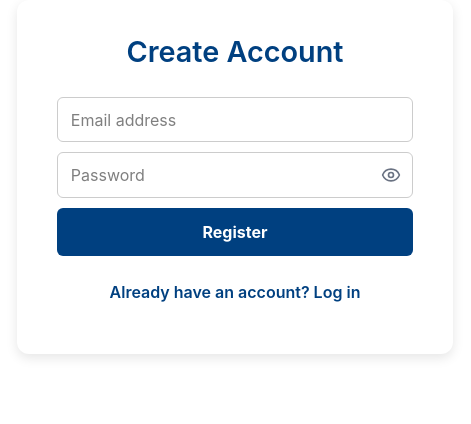
Test: Registration Component › validates email format
The width and height of the screenshot is (471, 424).
Type "invalidemail" into the field with placeholder "Email address". click: (235, 120)
box: [57,97,413,142]
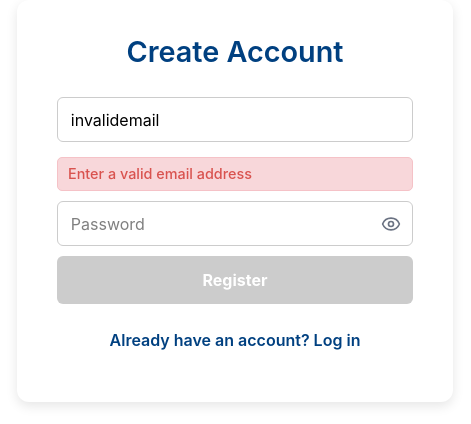
Expected: the text "Enter a valid email address" is shown, [57,157,413,191]
